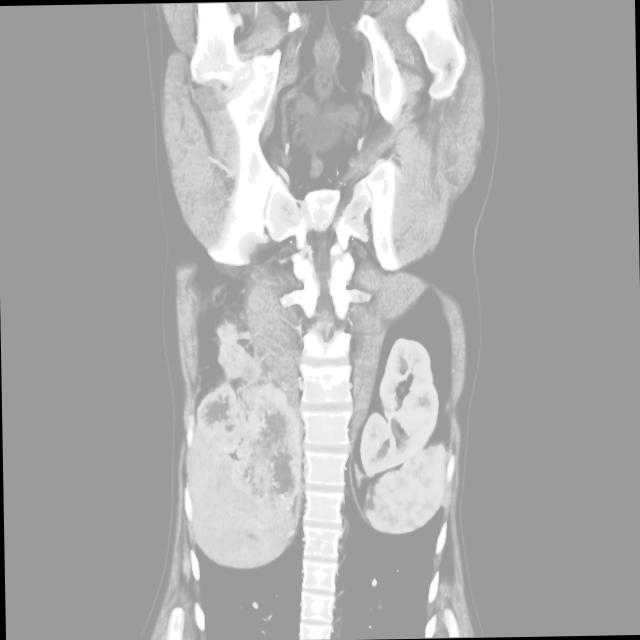TUMOR: (139, 197, 485, 508)
